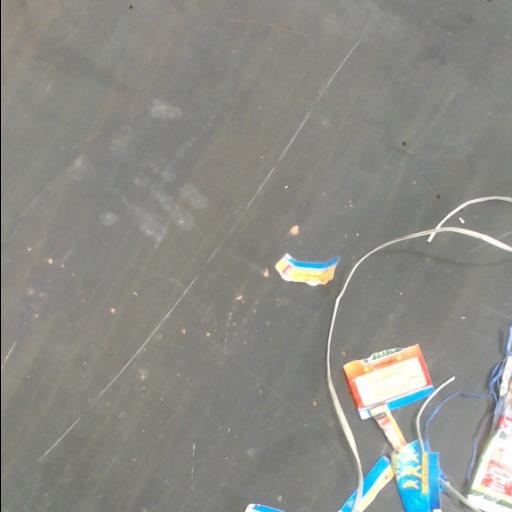conveyor belt: (1, 0, 512, 511), (332, 234, 512, 470), (429, 397, 489, 490), (445, 202, 512, 244)
packet: (337, 344, 453, 511), (454, 335, 512, 511), (374, 197, 512, 251), (275, 254, 337, 285), (245, 503, 283, 511)
thread: (326, 195, 512, 503), (326, 196, 512, 401), (414, 320, 512, 451), (442, 474, 483, 511)
